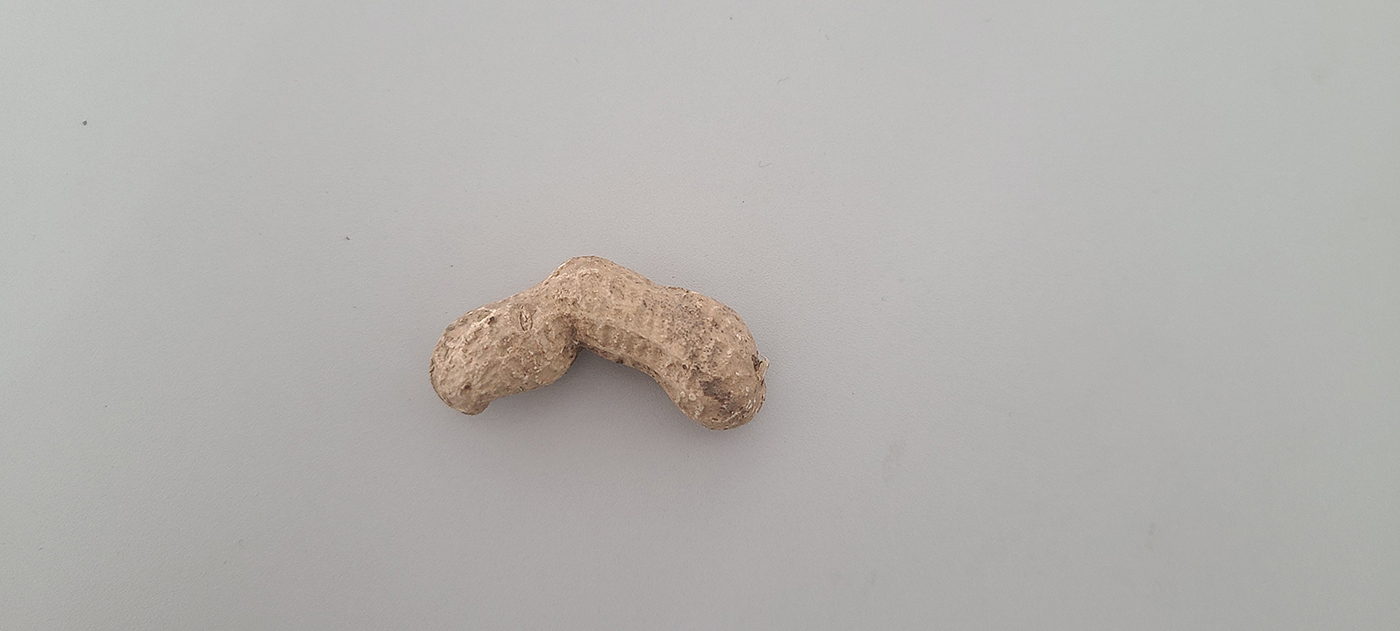h: (427, 252, 771, 432)
